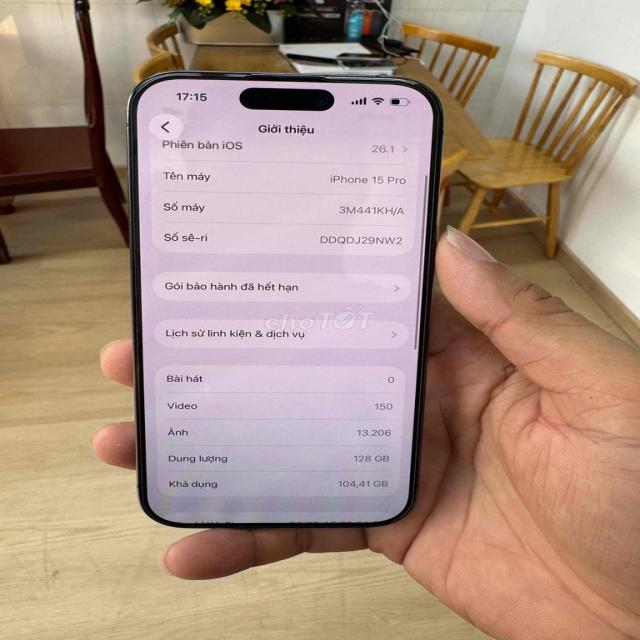gen_15: (93, 55, 479, 542)
